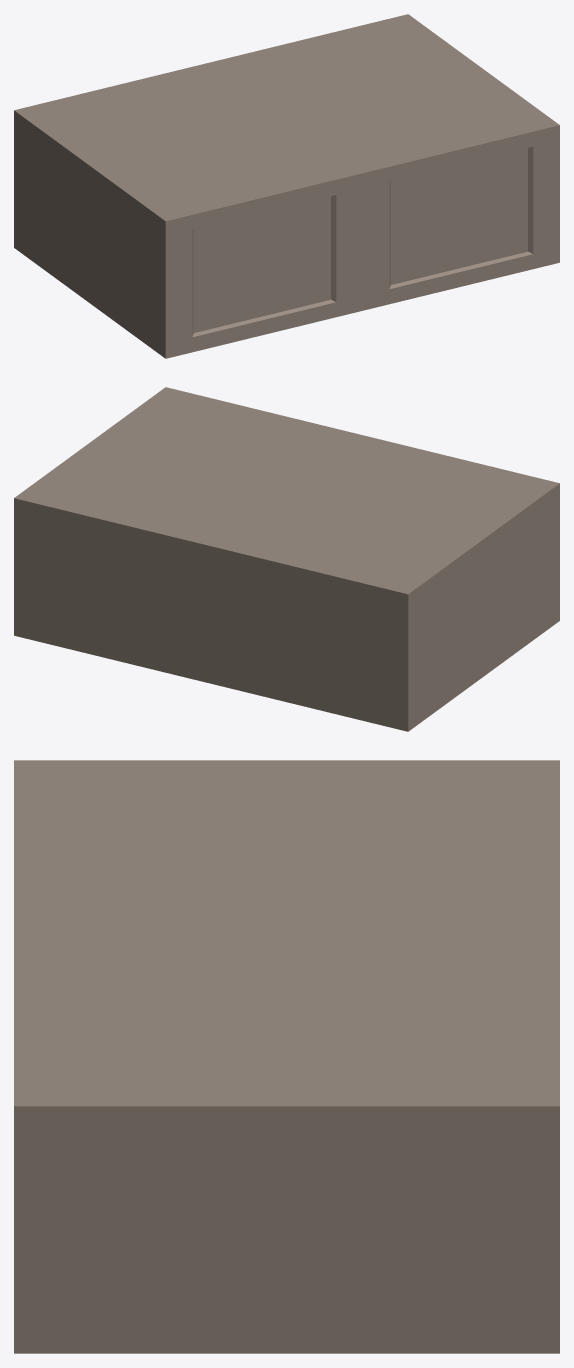
Rendered from WHP-Wall-Refrigerator-Double-Door.std.glb.
3 views of the same model, one above another, from view 1: azimuth 30°, elevation 25°; view 2: azimuth 150°, elevation 25°; view 3: azimuth 270°, elevation 25° (orthographic). The views are drawn at different scales.
Visible parts, largest first — view 1: WHP-Wall-Refrigerator-Double-Door.std.001; view 2: WHP-Wall-Refrigerator-Double-Door.std.001; view 3: WHP-Wall-Refrigerator-Double-Door.std.001.
Part boxes in pixels (<box>): WHP-Wall-Refrigerator-Double-Door.std.001: <box>14,14,559,358</box>; WHP-Wall-Refrigerator-Double-Door.std.001: <box>14,387,559,731</box>; WHP-Wall-Refrigerator-Double-Door.std.001: <box>14,760,559,1353</box>.
Size of the model in its own units: 0.9144 by 0.3048 by 0.6096.
